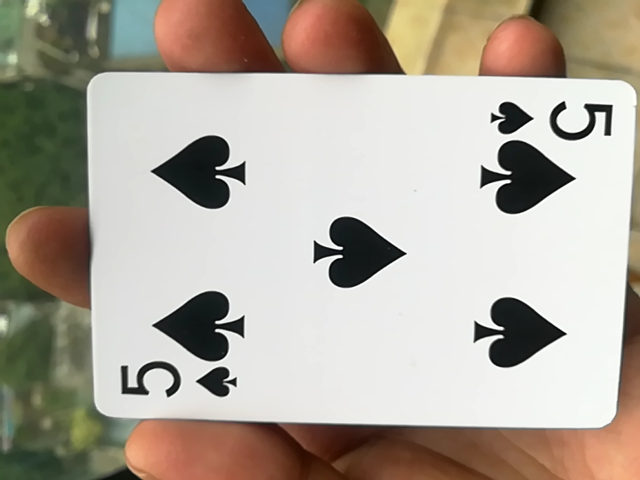ht 5: (63, 74, 637, 448)
